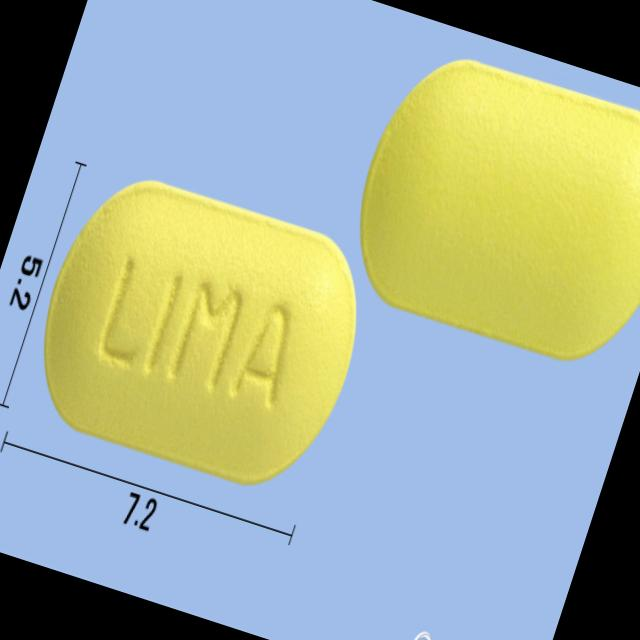Liamclo -250mg: (15, 160, 389, 508)
